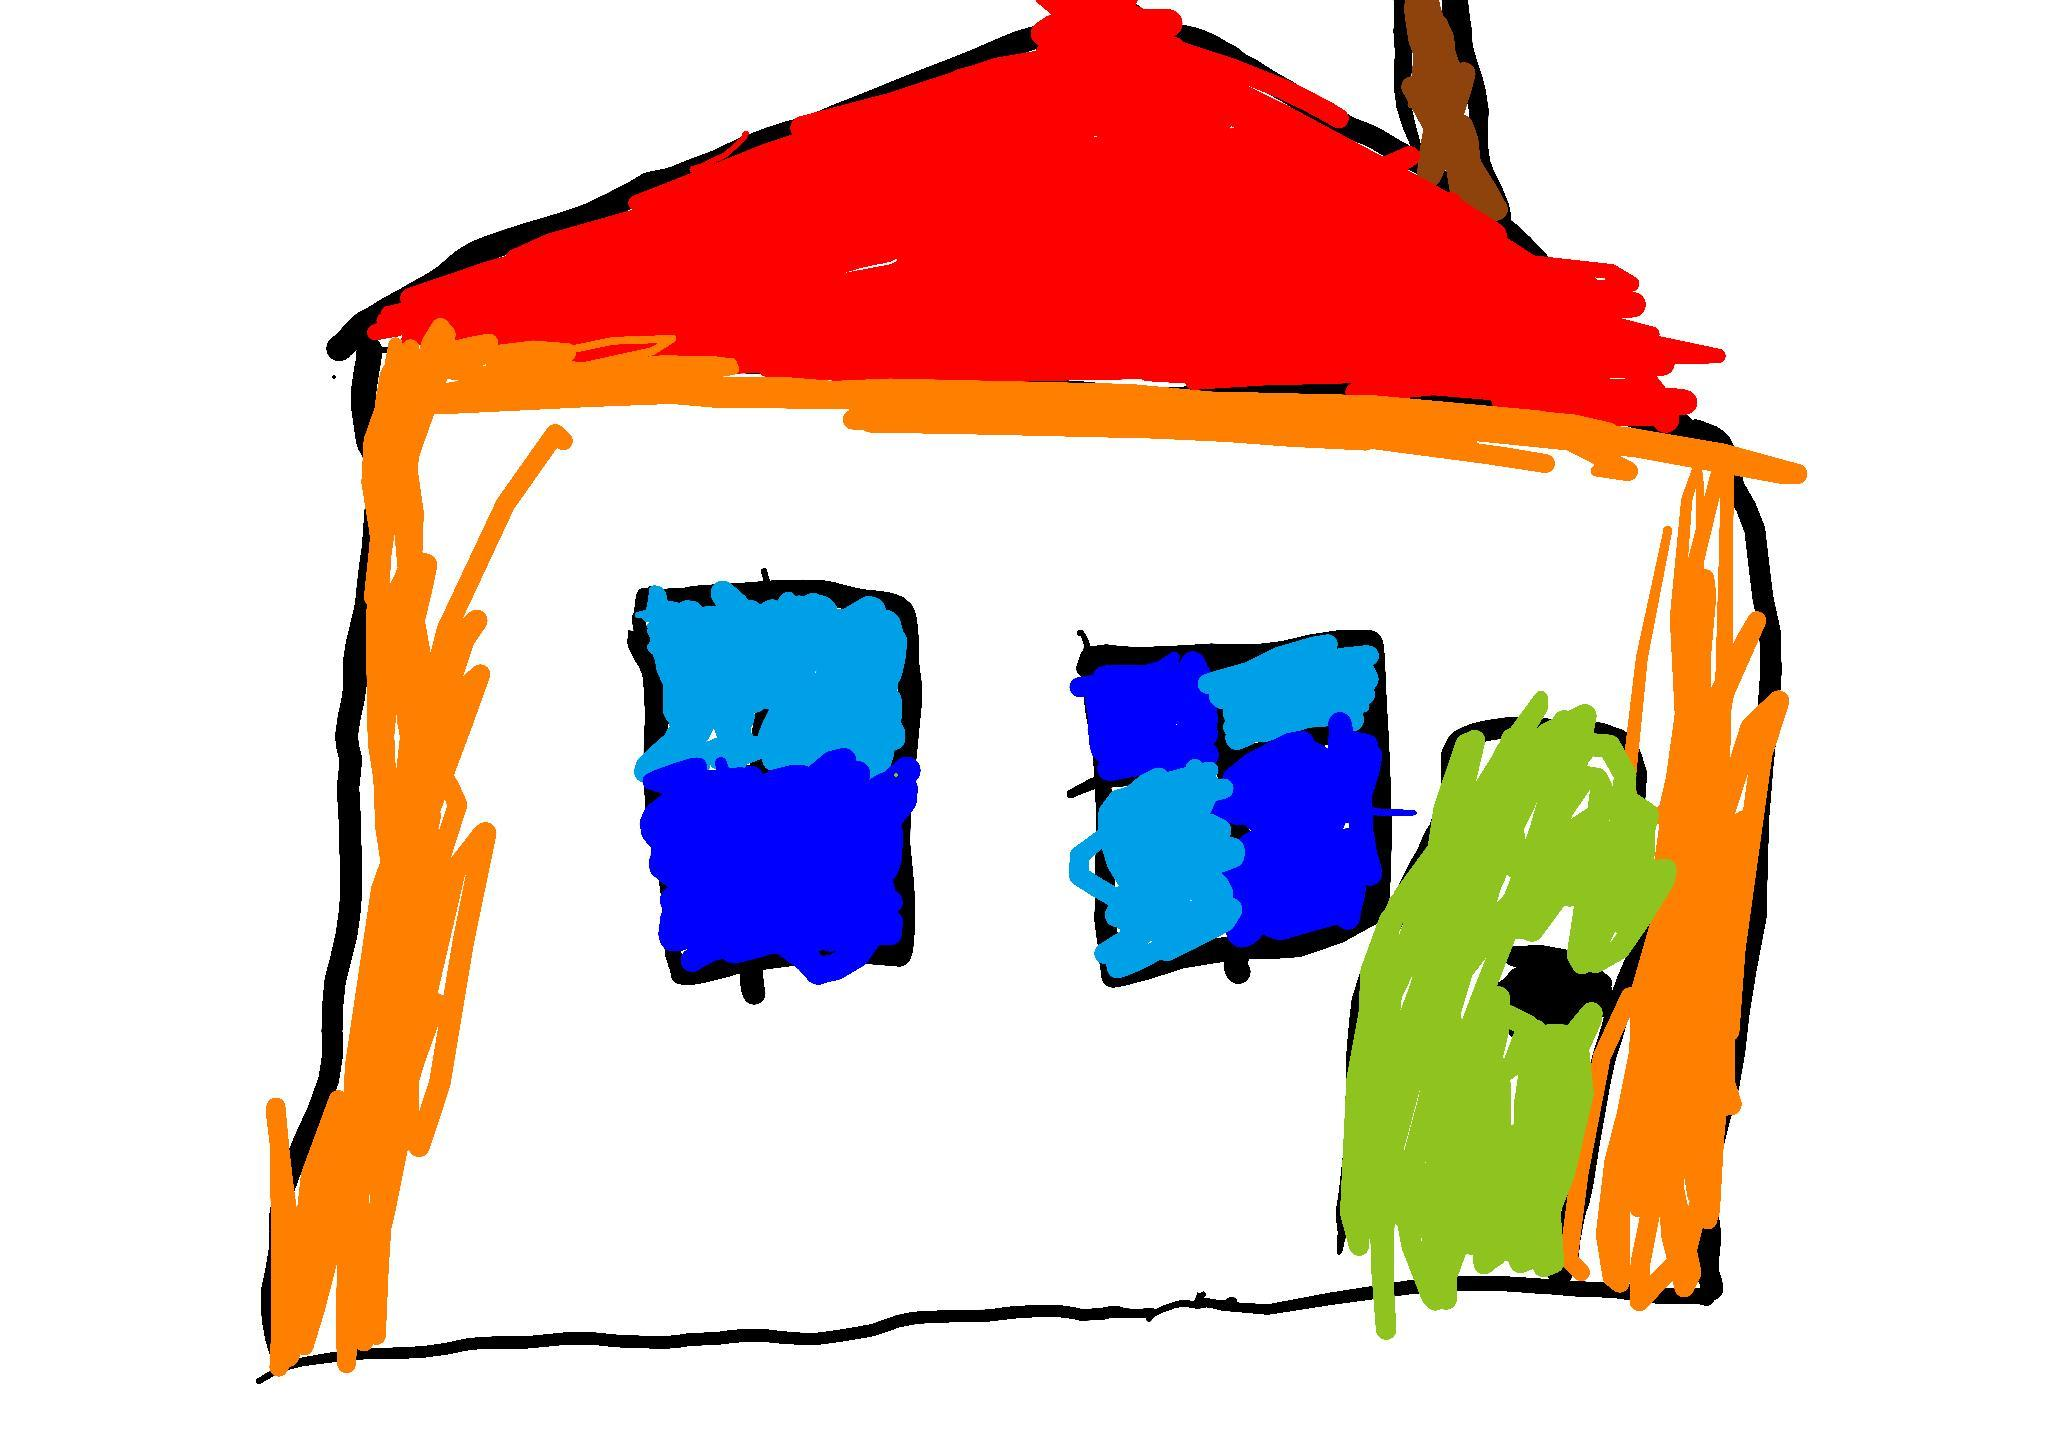chimney: (1389, 0, 1516, 223)
door: (1342, 692, 1679, 1298)
house: (271, 0, 1783, 1378)
roof: (348, 0, 1714, 430)
wall: (259, 348, 1766, 1380)
window: (630, 576, 921, 980), (1073, 635, 1393, 982)
